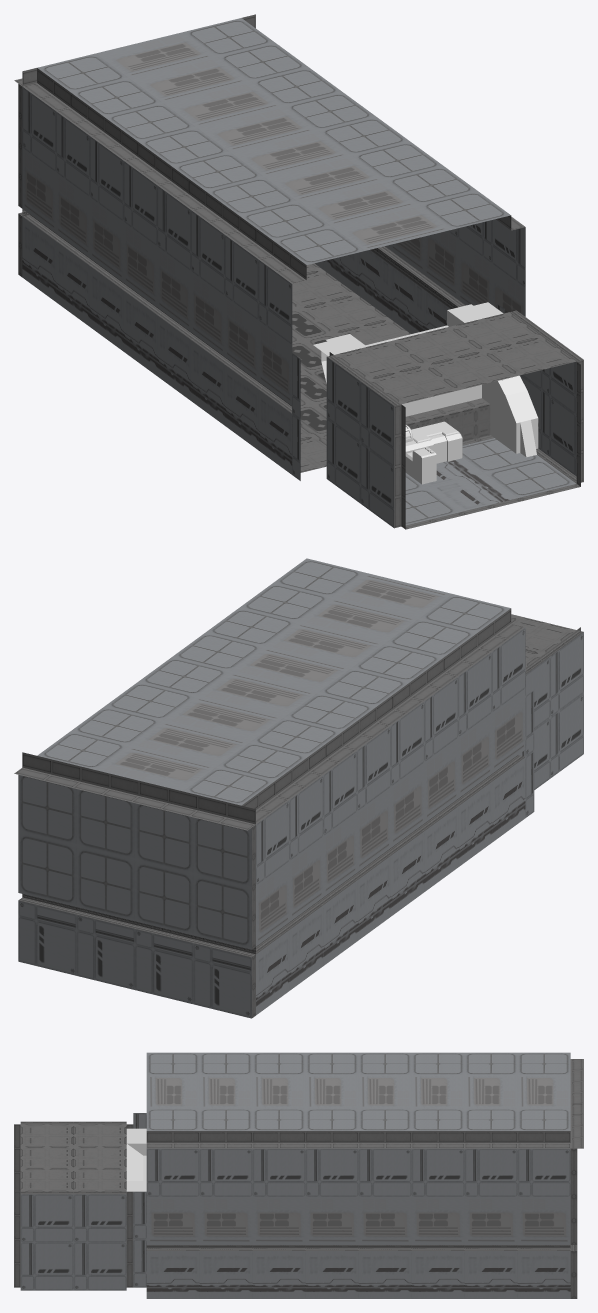
File: ShootingRange.fbx
3 renders of one model, top to bottom at view 1: azimuth 30°, elevation 25°; view 2: azimuth 150°, elevation 25°; view 3: azimuth 270°, elevation 25°, orthographic. The views are drawn at different scales.
Visible parts, largest first — view 1: Plane1_LP.003, Plane3_LP.005, Plane4_LP.003, Plane1_LP.001, Plane2_LP.002, Plane2_LP.001, Plane4.003, Plane1.001, Plane3_LP.001, Plane1_LP.002, Plane4_LP.004, Plane4.005 (+17 smaller); view 2: Plane2_LP.003, Plane1_LP.003, Plane4_LP.003, Plane1_LP.001, Plane3_LP.005, Plane2_LP.002, Plane2_LP.001, Plane3_LP.007, Plane3_LP.001, 1x4Plaine3.020, 1x4Plaine3.017, 1x4Plaine3.015 (+4 smaller); view 3: Plane1_LP.002, Plane3_LP.006, Plane4_LP.004, Plane1_LP.003, Plane3_LP.002, Plane2_LP.001, Plane2_LP.002, Plane4.003, 1x4Plaine3.018, 1x4Plaine3.014, 1x4Plaine3.016, Plane3_LP.004 (+9 smaller).
Boxes of the visible parts, x1=… form: Plane1_LP.003: x1=96, y1=32, x2=452, y2=250; Plane3_LP.005: x1=22, y1=87, x2=292, y2=344; Plane4_LP.003: x1=22, y1=216, x2=292, y2=474; Plane1_LP.001: x1=22, y1=148, x2=292, y2=405; Plane2_LP.002: x1=183, y1=18, x2=510, y2=229; Plane2_LP.001: x1=37, y1=53, x2=364, y2=264; Plane4.003: x1=334, y1=312, x2=576, y2=404; Plane1.001: x1=405, y1=435, x2=580, y2=529; Plane3_LP.001: x1=326, y1=357, x2=394, y2=527; Plane1_LP.002: x1=385, y1=231, x2=525, y2=316; Plane4_LP.004: x1=315, y1=250, x2=450, y2=333; Plane4.005: x1=292, y1=263, x2=410, y2=345; Plane2_LP.003: x1=18, y1=775, x2=251, y2=949; Plane1_LP.003: x1=96, y1=572, x2=452, y2=791; Plane4_LP.003: x1=256, y1=757, x2=525, y2=1015; Plane1_LP.001: x1=256, y1=688, x2=525, y2=946; Plane3_LP.005: x1=256, y1=627, x2=525, y2=885; Plane2_LP.002: x1=37, y1=558, x2=364, y2=769; Plane2_LP.001: x1=183, y1=594, x2=510, y2=805; Plane3_LP.007: x1=18, y1=900, x2=251, y2=1018; Plane3_LP.001: x1=518, y1=632, x2=583, y2=789; 1x4Plaine3.020: x1=14, y1=752, x2=255, y2=830; 1x4Plaine3.017: x1=242, y1=608, x2=511, y2=809; 1x4Plaine3.015: x1=256, y1=623, x2=525, y2=824; Plane1_LP.002: x1=146, y1=1196, x2=570, y2=1244; Plane3_LP.006: x1=146, y1=1148, x2=570, y2=1196; Plane4_LP.004: x1=146, y1=1251, x2=570, y2=1298; Plane1_LP.003: x1=146, y1=1075, x2=570, y2=1108; Plane3_LP.002: x1=20, y1=1194, x2=126, y2=1290; Plane2_LP.001: x1=146, y1=1052, x2=570, y2=1074; Plane2_LP.002: x1=146, y1=1108, x2=570, y2=1130; Plane4.003: x1=20, y1=1124, x2=126, y2=1191; 1x4Plaine3.018: x1=146, y1=1131, x2=570, y2=1142; 1x4Plaine3.014: x1=146, y1=1245, x2=570, y2=1250; 1x4Plaine3.016: x1=146, y1=1143, x2=570, y2=1148; Plane3_LP.004: x1=133, y1=1191, x2=146, y2=1287.
Size of the model in its own units: 800 by 675 by 2150.
